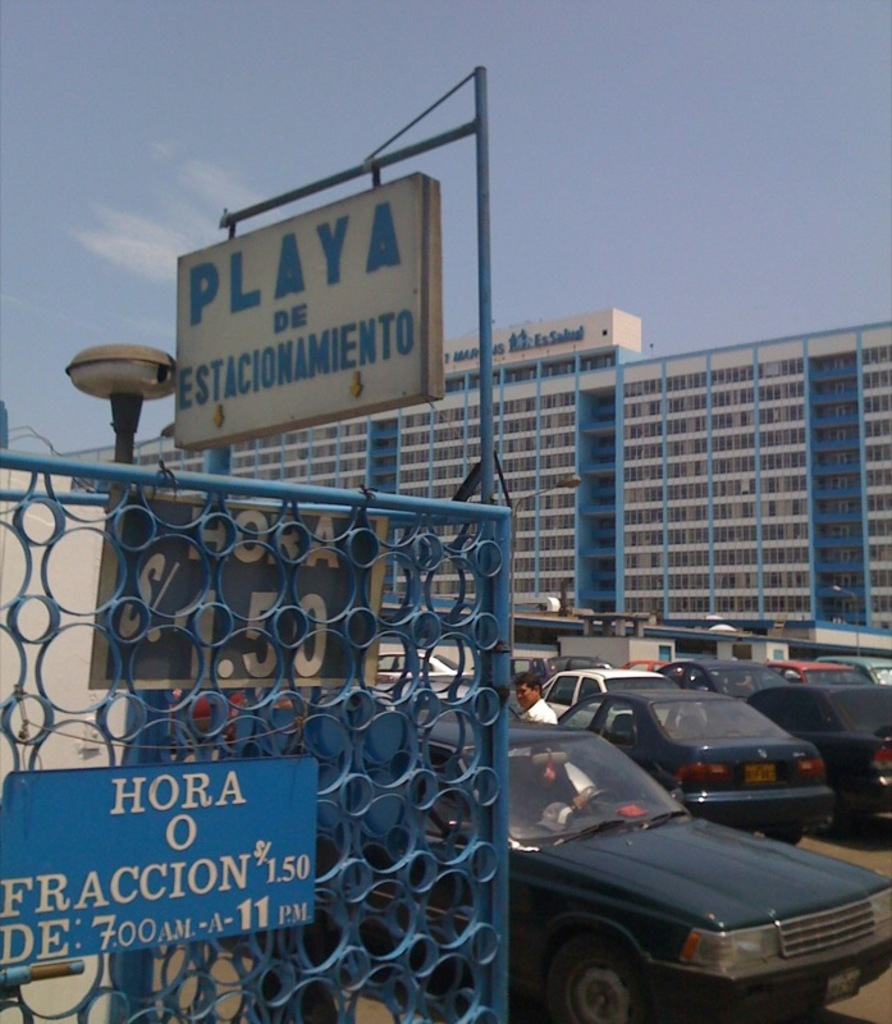Car: (168, 647, 890, 848), (491, 692, 868, 1024)
